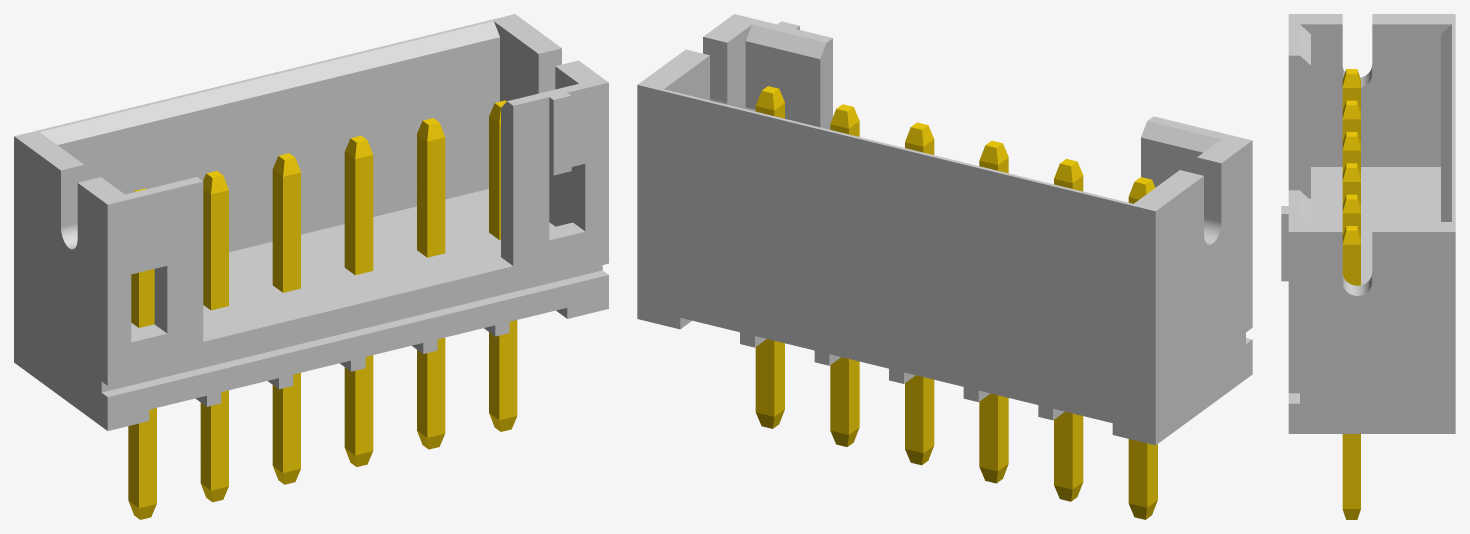
3 renders of one model, left to right at view 1: azimuth 30°, elevation 25°; view 2: azimuth 150°, elevation 25°; view 3: azimuth 270°, elevation 25°, orthographic. The views are drawn at different scales.
Visible parts, largest first — view 1: BxB-PH-K-S; view 2: BxB-PH-K-S; view 3: BxB-PH-K-S.
Boxes of the visible parts, x1=… form: BxB-PH-K-S: x1=14, y1=14, x2=608, y2=519; BxB-PH-K-S: x1=637, y1=14, x2=1252, y2=519; BxB-PH-K-S: x1=1281, y1=14, x2=1455, y2=519.
Size of the model in its own units: 0.0139 by 0.0094 by 0.0047.
